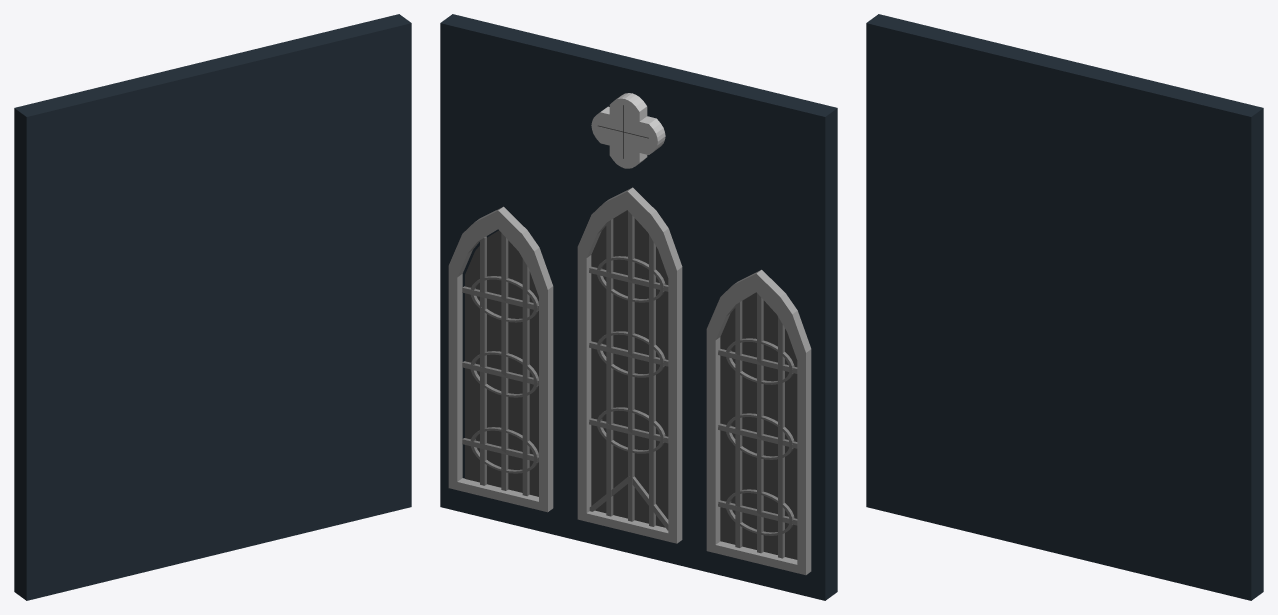
Rendered from side_1.glb.
3 renders of one model, left to right at view 1: azimuth 30°, elevation 25°; view 2: azimuth 150°, elevation 25°; view 3: azimuth 330°, elevation 25°, orthographic.
Visible parts, largest first — view 1: Cube; view 2: Cube, Cube.004, frame.002, Cube.013, Cube.016, frame.001, frame.003, Cube.006, Cube.005, Cube.018, Cube.007, Cube.015 (+17 smaller); view 3: Cube.
Part boxes in pixels (x1,y1,x2,y2): Cube: [14, 14, 411, 600]; Cube: [440, 14, 837, 600]; Cube.004: [591, 210, 668, 527]; frame.002: [577, 187, 682, 543]; Cube.013: [720, 292, 797, 559]; Cube.016: [465, 230, 538, 496]; frame.001: [448, 206, 553, 512]; frame.003: [706, 269, 811, 575]; Cube.006: [606, 219, 613, 516]; Cube.005: [628, 211, 634, 521]; Cube.018: [501, 233, 508, 490]; Cube.007: [649, 235, 655, 526]; Cube.015: [735, 301, 742, 547]; Cube: [866, 14, 1263, 600].
Size of the model in its own units: 9.64 by 11.58 by 0.9086.
